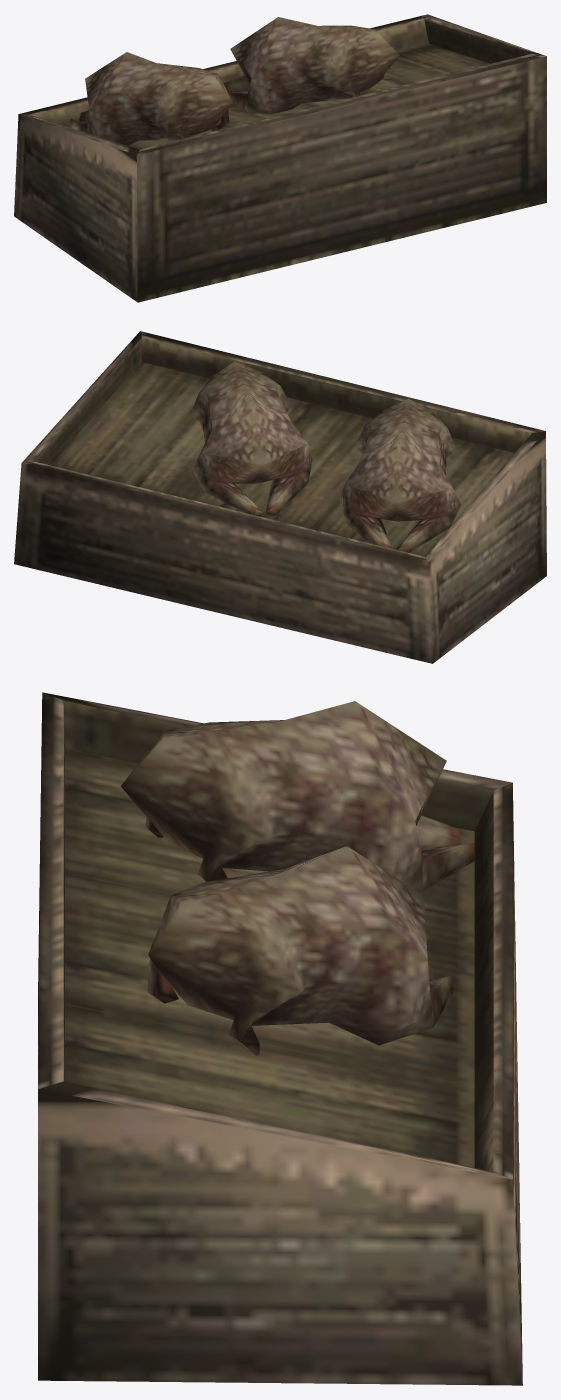
Rendered from OZ_24_ta_Fbox01E.glb.
The picture shows the model from 3 angles, top to bottom: view 1: azimuth 30°, elevation 25°; view 2: azimuth 150°, elevation 25°; view 3: azimuth 270°, elevation 25°; orthographic projection. The views are drawn at different scales.
Visible parts, largest first — view 1: OM_24_ta_Fbox01E; view 2: OM_24_ta_Fbox01E; view 3: OM_24_ta_Fbox01E.
Boxes of the visible parts, left/top/right/bottom form: OM_24_ta_Fbox01E: left=14, top=14, right=546, bottom=302; OM_24_ta_Fbox01E: left=14, top=331, right=546, bottom=663; OM_24_ta_Fbox01E: left=38, top=692, right=522, bottom=1385.
Bounding box in the file's own units: 1.23 × 0.4947 × 0.6222.
1 material, 1 textured.
